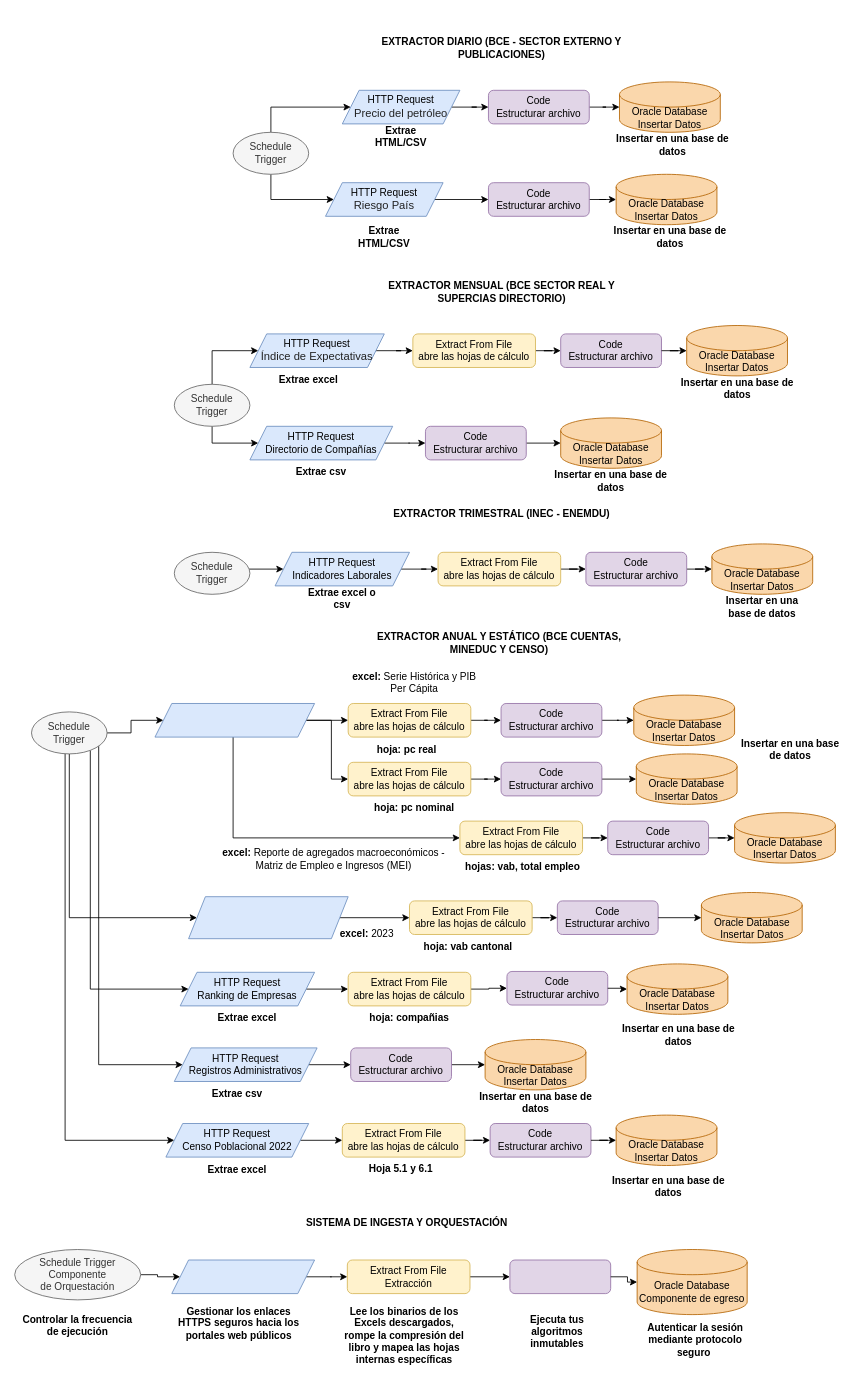
This 862x1381 diagram has some shape labels left out. The shapes that lost their labels are listed below. From the top down, each one's box as (x1, y1, x2, y2) in pixels, then its label:
(154, 703, 315, 737): HTTP Request Cuentas Nacionales Anuales
(188, 896, 348, 939): HTTP Request Cuentas Nacionales Anuales Regionales
(171, 1259, 315, 1294): HTTP Request Recopilar datos
(509, 1259, 611, 1294): Code Transformacion
